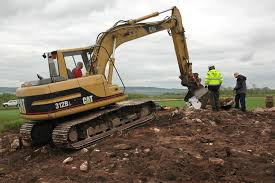excavator: (13, 3, 205, 156)
